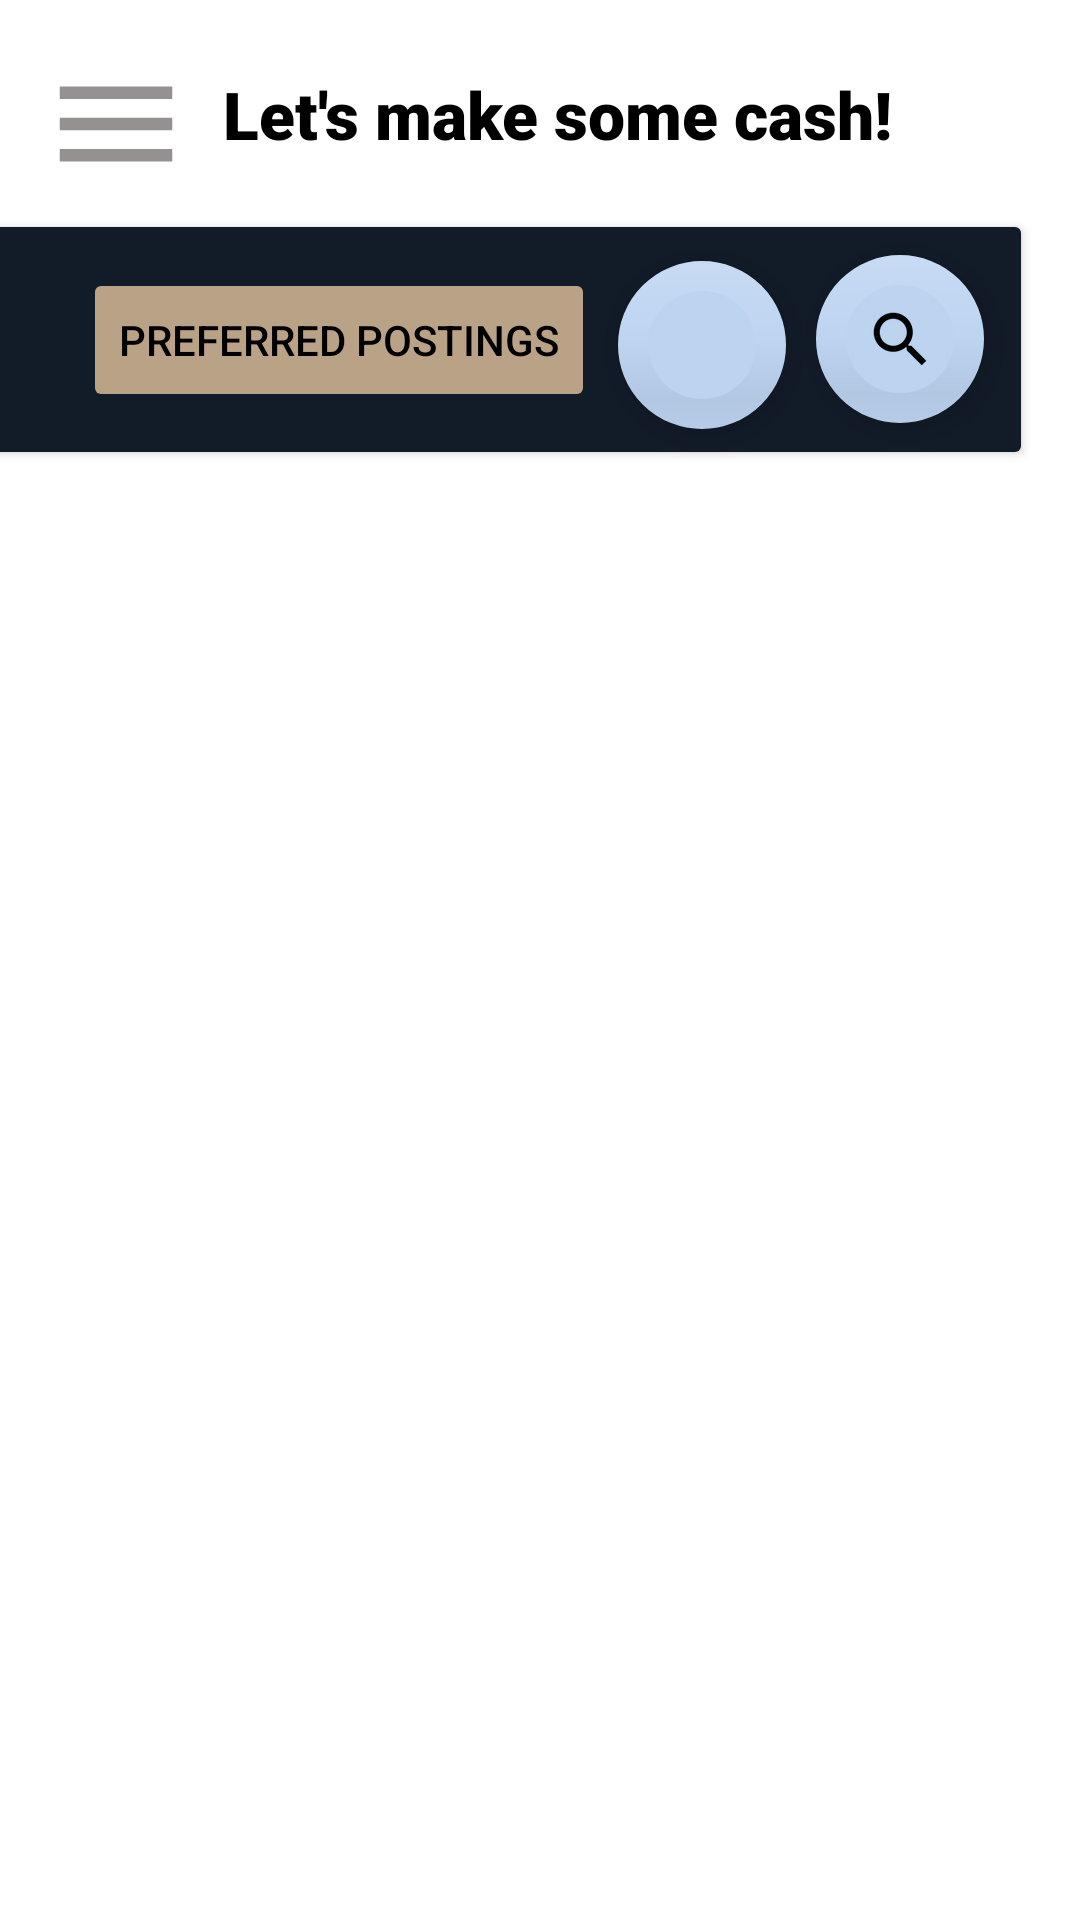

Point at icon controls on the screen. Image size 1080×1920, points as (x=x, y=y).
menu icon: (x=116, y=124)
Search: (x=900, y=339)
